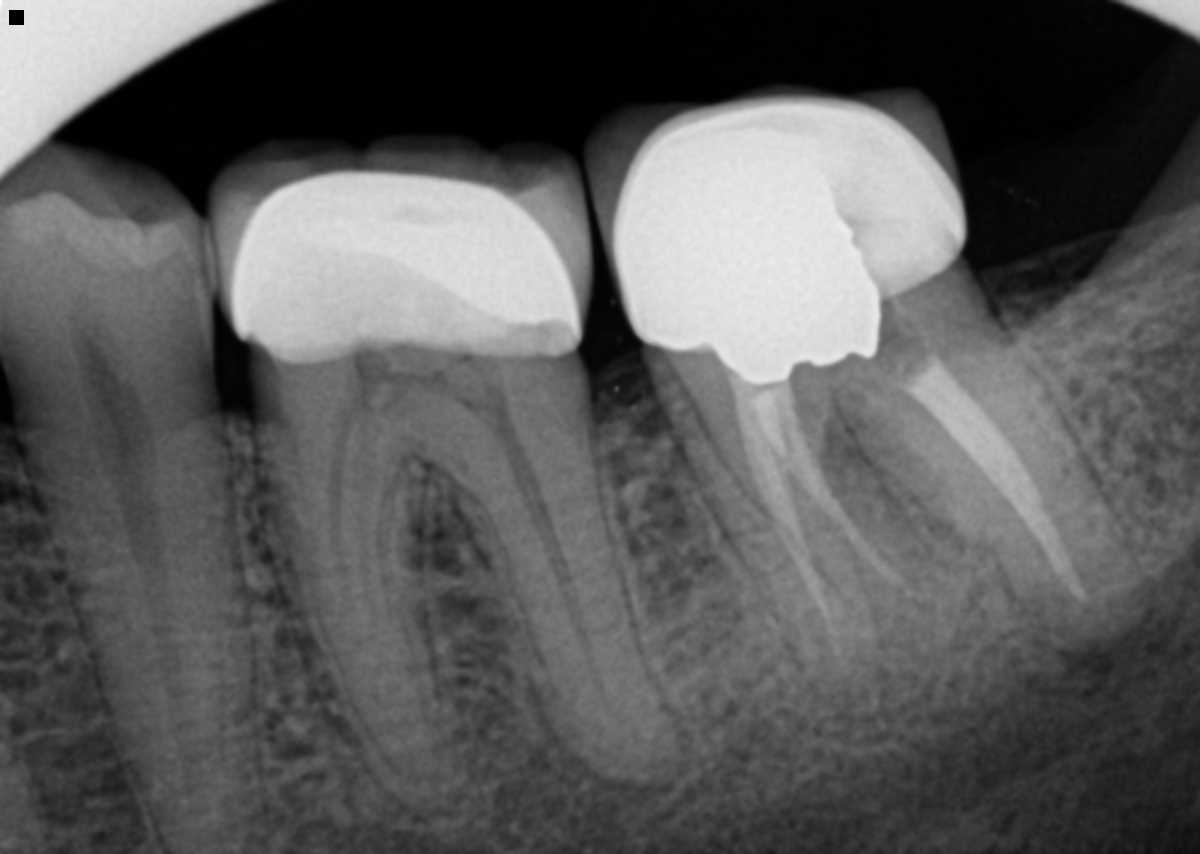Apical Lesion: (1057, 578, 1183, 699)
Distal Canal: (494, 425, 620, 724)
Distal Root: (857, 315, 1152, 659), (456, 406, 686, 787)
Main Canal: (93, 430, 198, 818)
Main Root: (16, 427, 267, 854), (256, 417, 440, 779)
Mesial Canal: (333, 418, 353, 615)
Mesial Root: (663, 399, 880, 724), (741, 418, 945, 652)
Root Canal Filling: (906, 356, 1092, 605), (754, 390, 910, 595)
